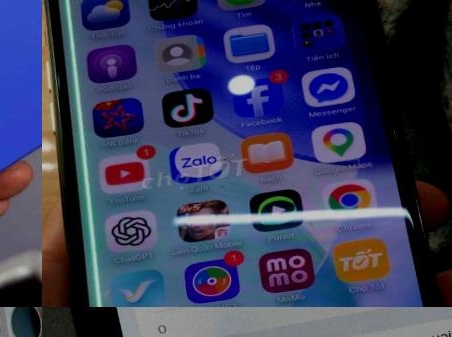screen_defect: (0, 164, 247, 337), (0, 74, 219, 192), (0, 0, 195, 44), (0, 0, 191, 6)
